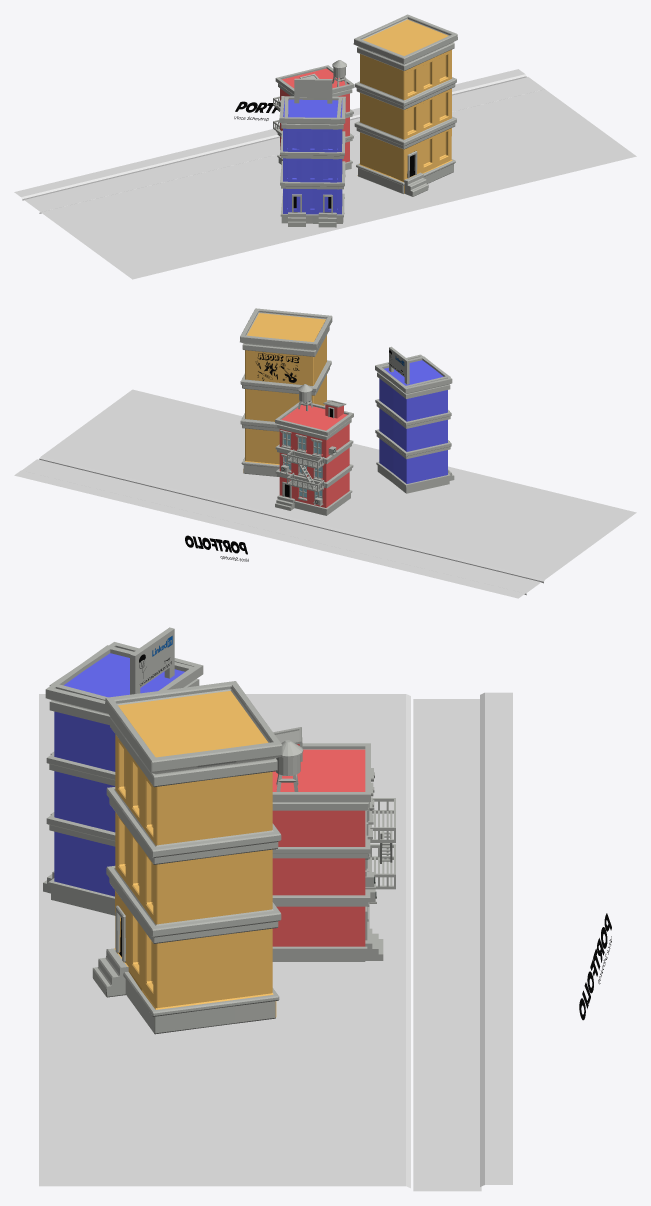
File: exportThreejsNoOutlines.gltf
3 renders of one model, top to bottom at view 1: azimuth 30°, elevation 25°; view 2: azimuth 150°, elevation 25°; view 3: azimuth 270°, elevation 25°, orthographic. The views are drawn at different scales.
Visible parts, largest first — view 1: Sidewalk.001, Building C, Building B, Building A; view 2: Sidewalk.001, Building C, Building B, Building A, Portfolio, Billboard Yellow Wall; view 3: Sidewalk.001, Building C, Building A, Building B, Portfolio.
Boxes of the visible parts, box(x1,y1,x2,y2) form: Sidewalk.001: box(14, 69, 636, 279); Building C: box(353, 14, 457, 196); Building B: box(279, 78, 345, 227); Building A: box(273, 60, 354, 170); Sidewalk.001: box(14, 389, 636, 598); Building C: box(240, 308, 332, 476); Building B: box(375, 346, 454, 493); Building A: box(275, 384, 353, 515); Portfolio: box(185, 535, 247, 554); Billboard Yellow Wall: box(255, 353, 299, 382); Sidewalk.001: box(39, 692, 512, 1191); Building C: box(92, 681, 282, 1034); Building A: box(272, 727, 395, 961); Building B: box(43, 627, 203, 915); Portfolio: box(579, 913, 611, 1020).
Size of the model in its own units: 139 by 39.4 by 68.15.
Materials: 14 (3 with a texture image).
